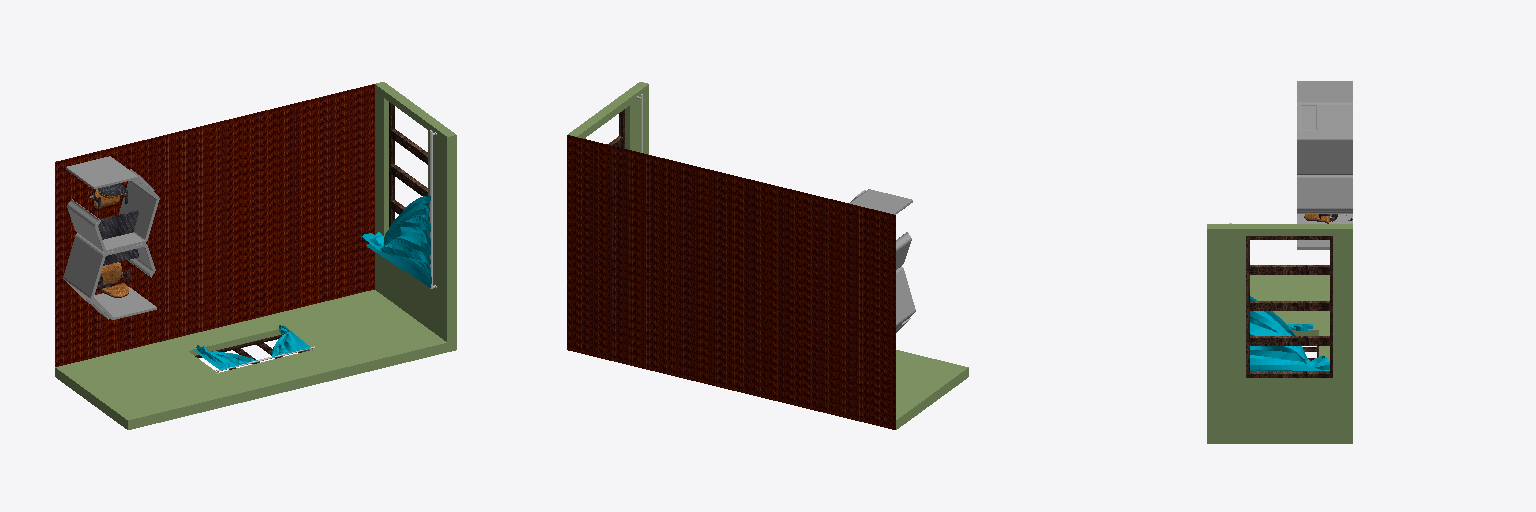
3 renders of one model, left to right at view 1: azimuth 30°, elevation 25°; view 2: azimuth 150°, elevation 25°; view 3: azimuth 270°, elevation 25°, orthographic.
Parts seen in each view (by area): view 1: Plane.012_Plane.015, Cube.025_Cube.034, Cylinder.023_Cylinder.037, Cylinder.018_Cylinder.032, Plane.013_Plane.016, Plane.014_Plane.017, Plane.006_Plane.013, Cube.039_Cube.043; view 2: Plane.012_Plane.015, Cube.025_Cube.034, Cylinder.023_Cylinder.037, Cylinder.018_Cylinder.032; view 3: Cube.025_Cube.034, Cylinder.023_Cylinder.037, Cylinder.018_Cylinder.032, Plane.013_Plane.016, Cube.036_Cube.040, Cube.039_Cube.043, Cube.038_Cube.042, Cube.037_Cube.041.
Boxes of the visible parts, x1=… form: Plane.012_Plane.015: x1=55, y1=84, x2=374, y2=366; Cube.025_Cube.034: x1=55, y1=82, x2=456, y2=429; Cylinder.023_Cylinder.037: x1=66, y1=156, x2=159, y2=252; Cylinder.018_Cylinder.032: x1=63, y1=233, x2=156, y2=319; Plane.013_Plane.016: x1=362, y1=196, x2=431, y2=287; Plane.014_Plane.017: x1=193, y1=325, x2=310, y2=369; Plane.006_Plane.013: x1=98, y1=210, x2=138, y2=239; Cube.039_Cube.043: x1=389, y1=133, x2=427, y2=195; Plane.012_Plane.015: x1=567, y1=135, x2=895, y2=429; Cube.025_Cube.034: x1=568, y1=82, x2=968, y2=429; Cylinder.023_Cylinder.037: x1=849, y1=189, x2=912, y2=269; Cylinder.018_Cylinder.032: x1=896, y1=266, x2=915, y2=328; Cube.025_Cube.034: x1=1207, y1=224, x2=1352, y2=443; Cylinder.023_Cylinder.037: x1=1297, y1=81, x2=1352, y2=174; Cylinder.018_Cylinder.032: x1=1297, y1=175, x2=1352, y2=249; Plane.013_Plane.016: x1=1250, y1=296, x2=1329, y2=370; Cube.036_Cube.040: x1=1246, y1=342, x2=1332, y2=377; Cube.039_Cube.043: x1=1246, y1=271, x2=1332, y2=306; Cube.038_Cube.042: x1=1246, y1=307, x2=1332, y2=341; Cube.037_Cube.041: x1=1246, y1=236, x2=1332, y2=270.
Size of the model in its own units: 25.1 by 15.71 by 9.61.
14 materials, 4 textured.